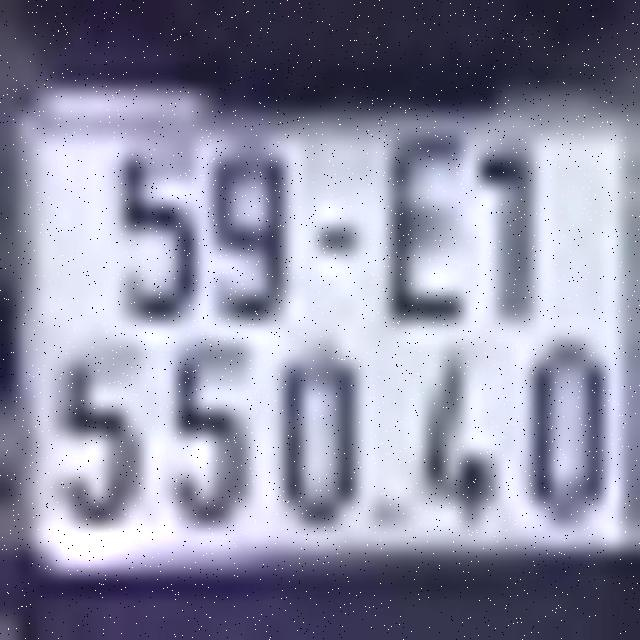0: (524, 332, 610, 526), (279, 340, 361, 529)
1: (478, 130, 541, 324)
4: (417, 343, 500, 530)
5: (58, 341, 146, 528), (171, 336, 254, 527), (116, 146, 202, 322)
9: (210, 144, 288, 323)
E: (385, 127, 469, 324)
